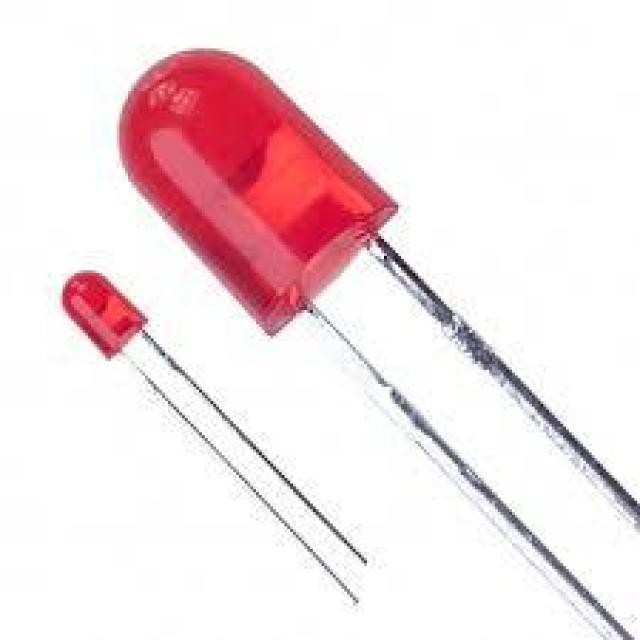Led: (120, 50, 640, 556), (62, 275, 226, 462)
